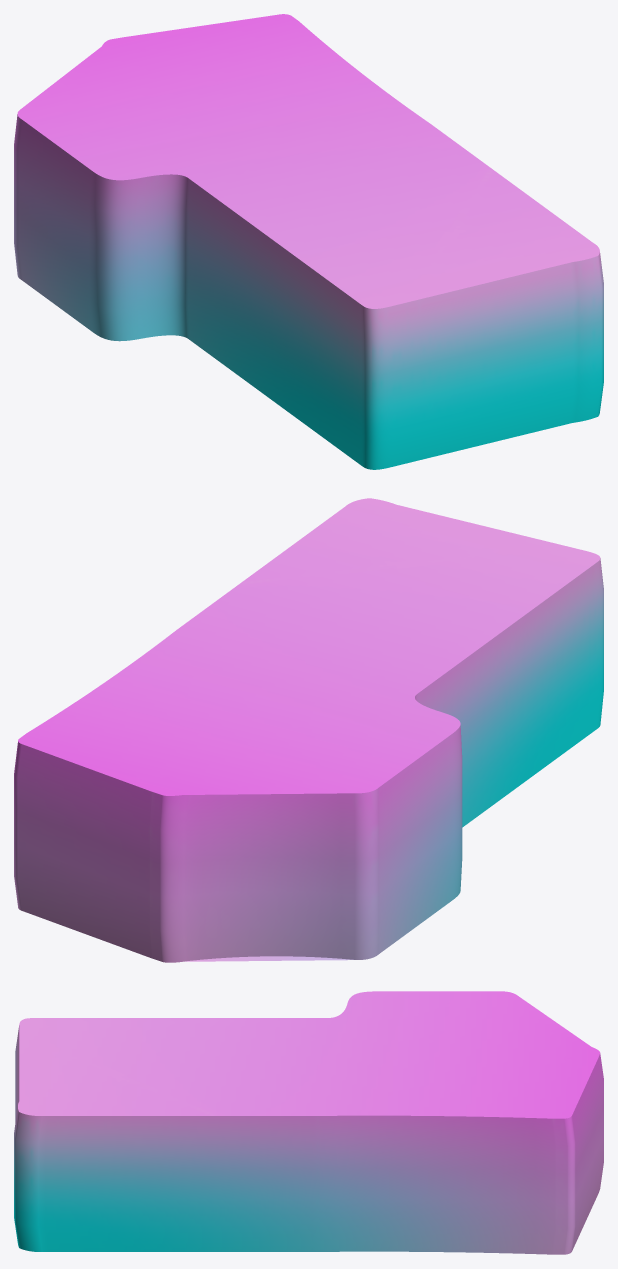
The picture shows the model from 3 angles, top to bottom: view 1: azimuth 30°, elevation 25°; view 2: azimuth 150°, elevation 25°; view 3: azimuth 270°, elevation 25°; orthographic projection. The views are drawn at different scales.
Visible parts, largest first — view 1: Curve.001; view 2: Curve.001; view 3: Curve.001.
Part boxes in pixels (x1=…): Curve.001: x1=14, y1=14, x2=603, y2=469; Curve.001: x1=14, y1=498, x2=603, y2=962; Curve.001: x1=14, y1=991, x2=603, y2=1254.
Size of the model in its own units: 23.09 by 11.36 by 44.65.
Materials: 1 (1 with a texture image).
